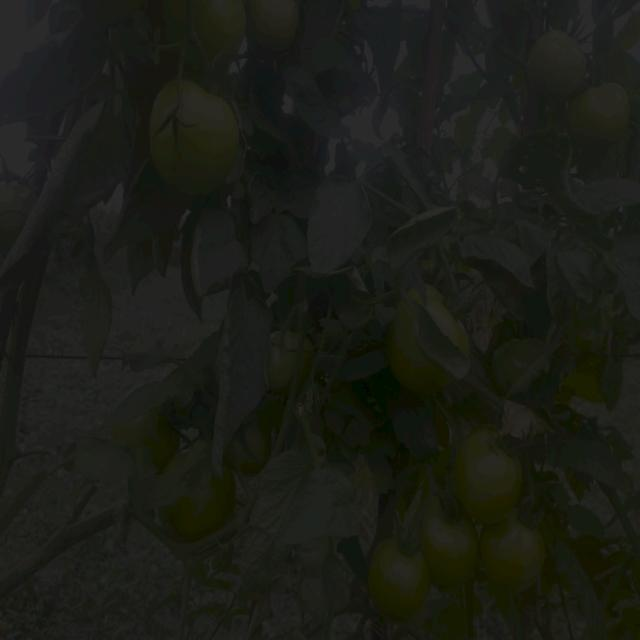tomato: (148, 78, 246, 192), (452, 425, 531, 521), (525, 31, 601, 103), (426, 505, 490, 589), (371, 538, 433, 616), (488, 514, 553, 586), (181, 479, 242, 541), (391, 309, 431, 402), (567, 87, 632, 141), (245, 1, 307, 54), (426, 285, 475, 351), (273, 323, 310, 399), (137, 414, 182, 472), (200, 1, 248, 54), (1, 169, 35, 232), (496, 334, 540, 380), (226, 424, 268, 469)
